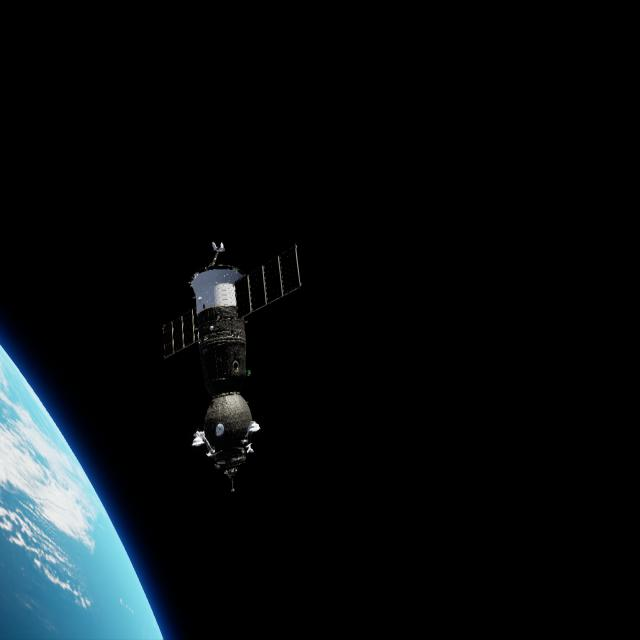Satellites revolving around earth: (159, 236, 304, 494)
